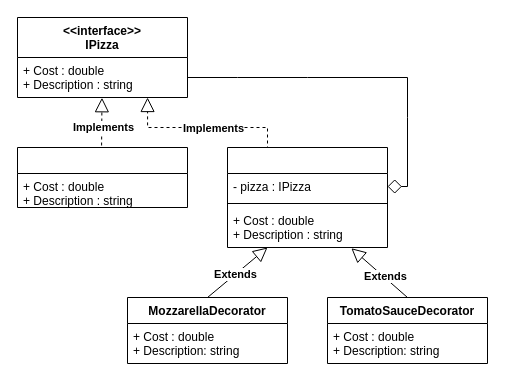
This 505x384 diagram has some shape labels left out. The box of each missing label's shape, as (x1, y1, x2, y2) in pixels:
PlainPizza: (16, 146, 188, 208)
ToppingDecorator: (226, 146, 388, 248)
